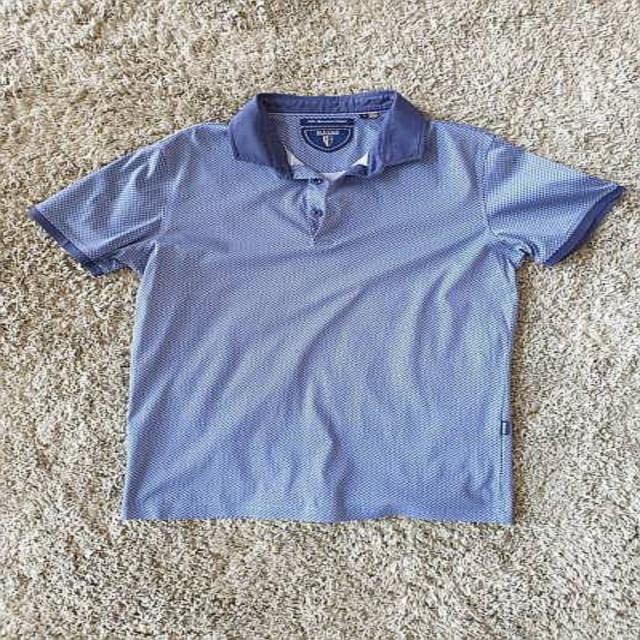T_SHIRT: (19, 78, 640, 548)
